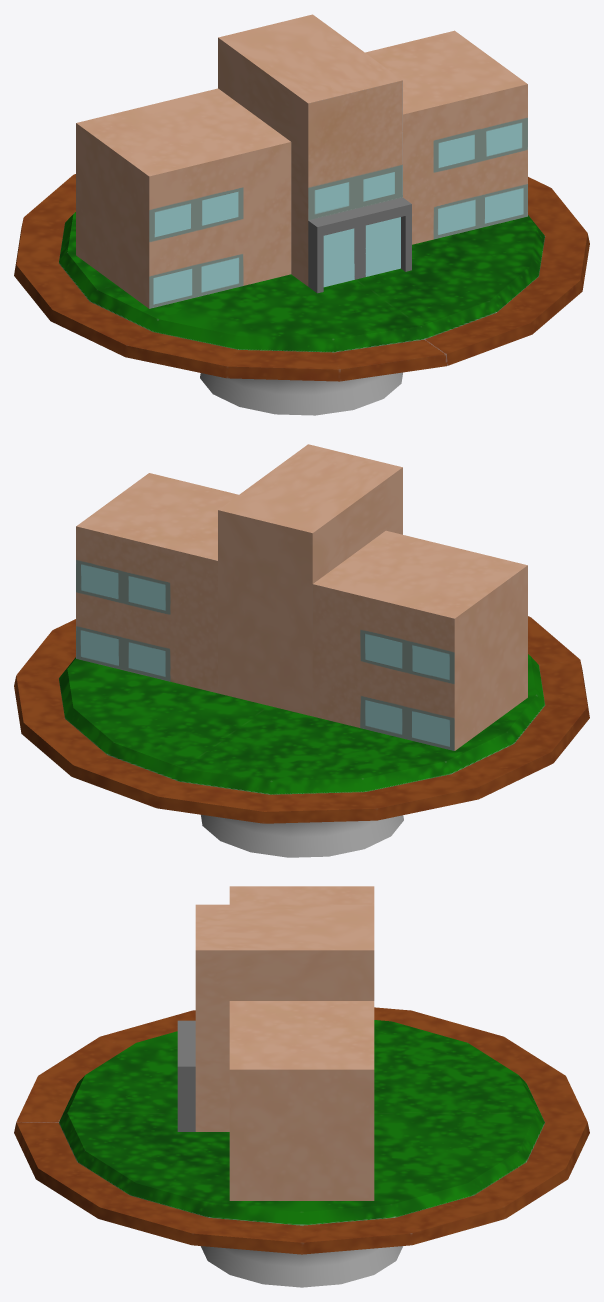
File: sghoolstage.fbx
3 renders of one model, top to bottom at view 1: azimuth 30°, elevation 25°; view 2: azimuth 150°, elevation 25°; view 3: azimuth 270°, elevation 25°, orthographic.
Parts seen in each view (by area): view 1: pCube2; view 2: pCube2; view 3: pCube2.
Boxes of the visible parts, x1=… form: pCube2: x1=14, y1=14, x2=589, y2=415; pCube2: x1=14, y1=444, x2=589, y2=857; pCube2: x1=14, y1=886, x2=589, y2=1287.
Bounding box in the file's own units: 3.98 × 2.41 × 3.98.
Materials: 1 (1 with a texture image).
